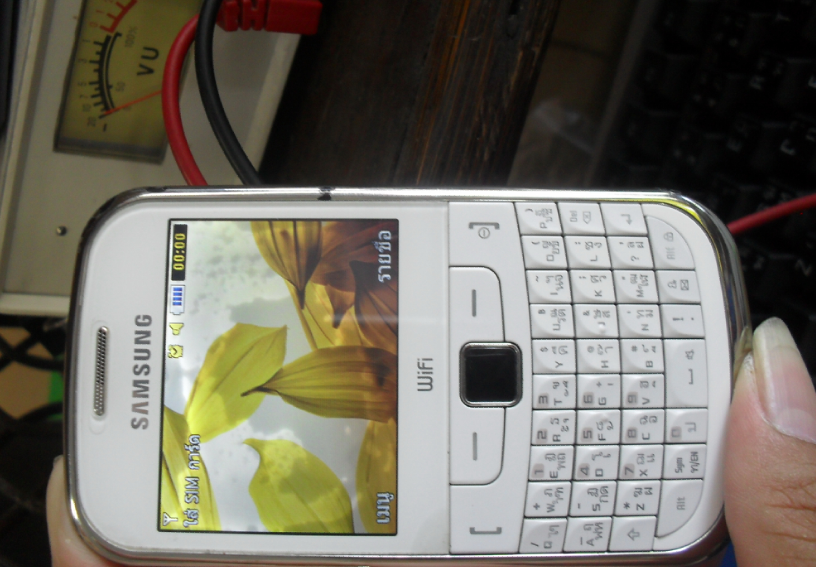Phone: (63, 183, 756, 567)
